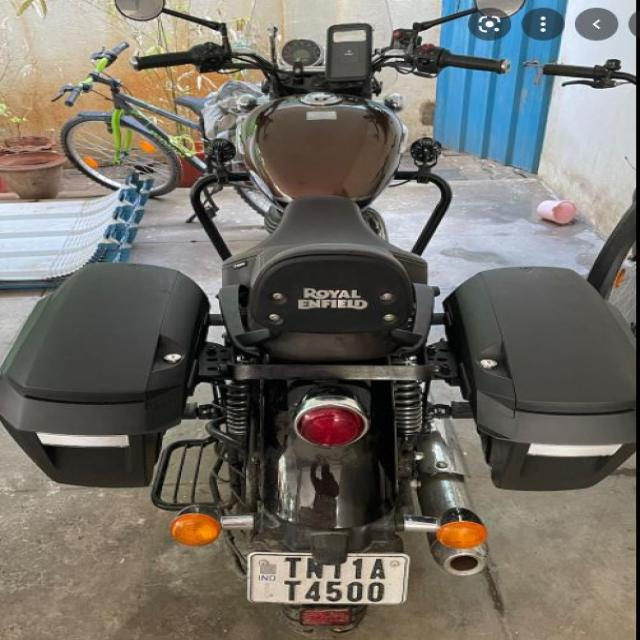license_plate: (245, 550, 409, 605)
